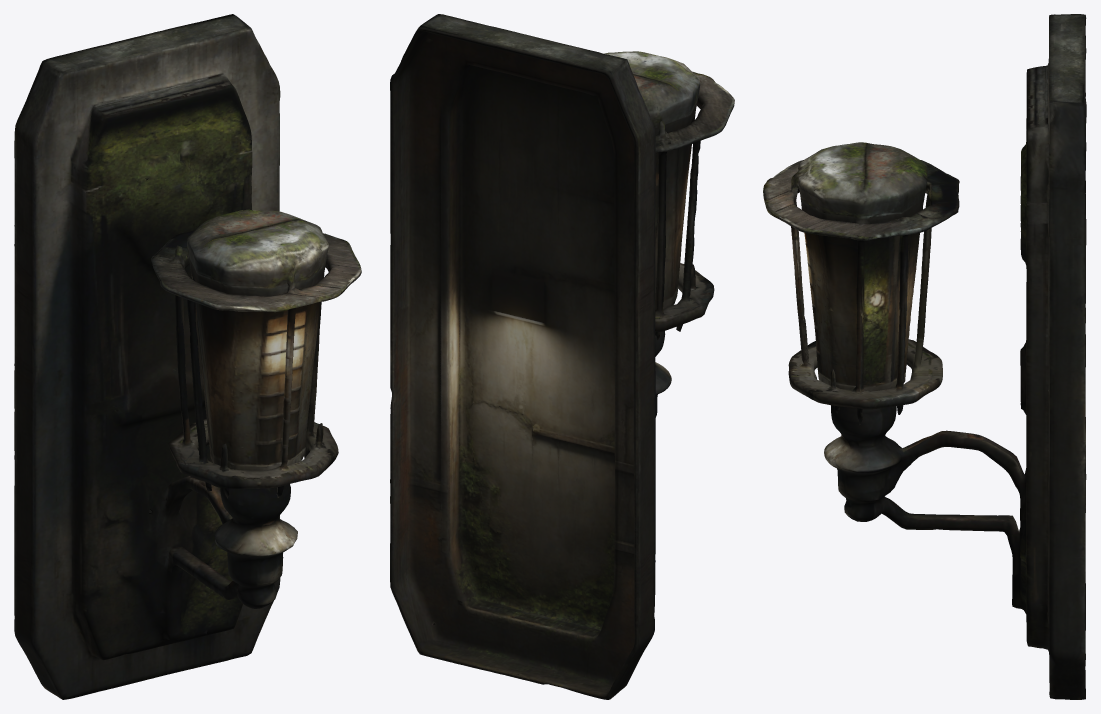
The model's file is Outside_wall_lamp_A_d_0423201008_refine.fbx.
The picture shows the model from 3 angles, left to right: view 1: azimuth 30°, elevation 25°; view 2: azimuth 150°, elevation 25°; view 3: azimuth 270°, elevation 25°; orthographic projection. The views are drawn at different scales.
Visible parts, largest first — view 1: Mesh1; view 2: Mesh1; view 3: Mesh1.
Part boxes in pixels (x1,y1,x2,y2): Mesh1: [14, 14, 361, 699]; Mesh1: [390, 14, 734, 699]; Mesh1: [763, 14, 1086, 699].
Bounding box in the file's own units: 83 × 201 × 98.27.
Materials: 1 (1 with a texture image).
